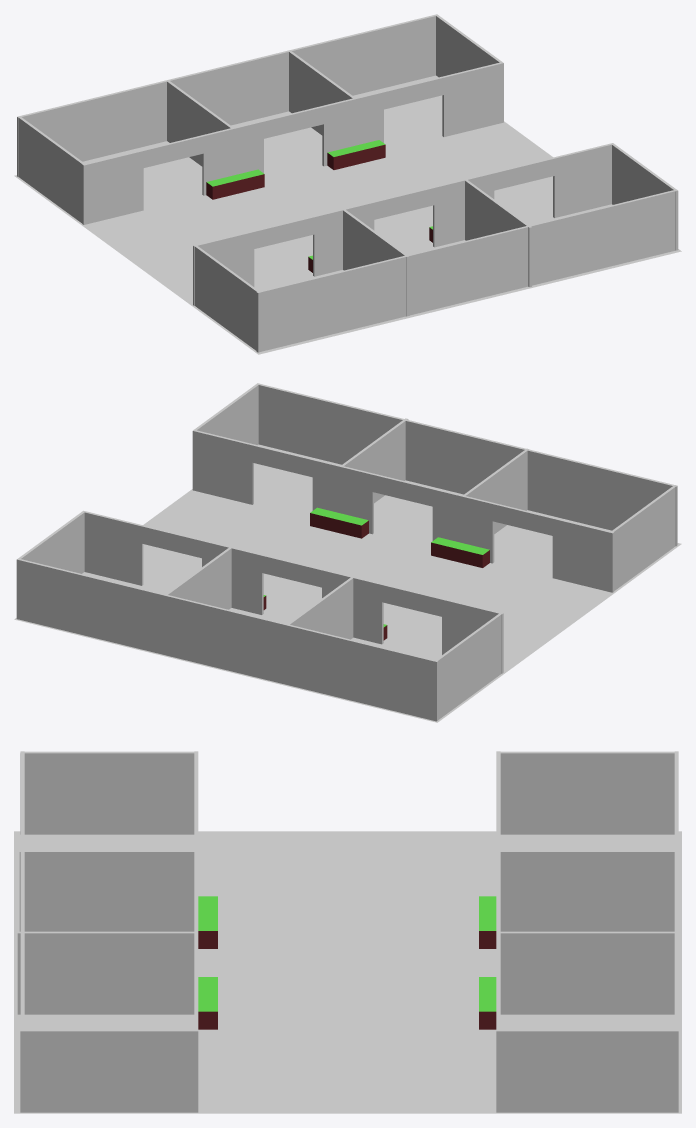
The model's file is plaza.gltf.
The picture shows the model from 3 angles, top to bottom: view 1: azimuth 30°, elevation 25°; view 2: azimuth 150°, elevation 25°; view 3: azimuth 270°, elevation 25°; orthographic projection. The views are drawn at different scales.
Visible parts, largest first — view 1: Cube.018, Plane, Cube.006, Cube.001, Cube.002, Cube.005, Cube.007, Cube.009, Cube.011, Cube, Cube.003, Cube.004 (+3 smaller); view 2: Plane, Cube.006, Cube, Cube.007, Cube.001, Cube.018, Cube.002, Cube.005, Cube.009, Cube.003, Cube.010, Cube.004 (+3 smaller); view 3: Plane, Cube.018, Cube.005, Cube.003, Cube.004, Cube.009, Cube.008, Cube.011, Cube.010, Cube.002, Cube.001, Cube.006 (+6 smaller).
Boxes of the visible parts, x1=… form: Cube.018: x1=19, y1=15, x2=678, y2=352; Plane: x1=14, y1=75, x2=681, y2=354; Cube.006: x1=17, y1=14, x2=437, y2=177; Cube.001: x1=82, y1=62, x2=503, y2=224; Cube.002: x1=18, y1=116, x2=84, y2=223; Cube.005: x1=436, y1=15, x2=502, y2=77; Cube.007: x1=193, y1=143, x2=613, y2=305; Cube.009: x1=167, y1=81, x2=225, y2=166; Cube.011: x1=465, y1=179, x2=531, y2=285; Cube: x1=256, y1=189, x2=677, y2=351; Cube.003: x1=612, y1=145, x2=677, y2=204; Cube.004: x1=195, y1=245, x2=259, y2=349; Plane: x1=14, y1=444, x2=681, y2=722; Cube.006: x1=16, y1=559, x2=438, y2=721; Cube: x1=257, y1=383, x2=677, y2=546; Cube.007: x1=192, y1=430, x2=614, y2=592; Cube.001: x1=83, y1=510, x2=503, y2=673; Cube.018: x1=18, y1=383, x2=677, y2=684; Cube.002: x1=435, y1=613, x2=501, y2=719; Cube.005: x1=18, y1=511, x2=84, y2=573; Cube.009: x1=287, y1=577, x2=353, y2=639; Cube.003: x1=193, y1=383, x2=259, y2=444; Cube.010: x1=463, y1=449, x2=528, y2=533; Cube.004: x1=610, y1=485, x2=676, y2=567; Plane: x1=14, y1=831, x2=681, y2=1113; Cube.018: x1=17, y1=751, x2=676, y2=1112; Cube.005: x1=498, y1=1029, x2=676, y2=1112; Cube.003: x1=20, y1=1029, x2=197, y2=1112; Cube.004: x1=20, y1=751, x2=197, y2=834; Cube.009: x1=499, y1=850, x2=676, y2=931; Cube.008: x1=499, y1=931, x2=676, y2=1014; Cube.011: x1=17, y1=931, x2=195, y2=1014; Cube.010: x1=19, y1=850, x2=196, y2=931; Cube.002: x1=500, y1=751, x2=677, y2=834; Cube.001: x1=496, y1=751, x2=500, y2=1112; Cube.006: x1=674, y1=751, x2=678, y2=1112.
Size of what is drawn, in the model's own units: 32 by 4.34 by 32.
